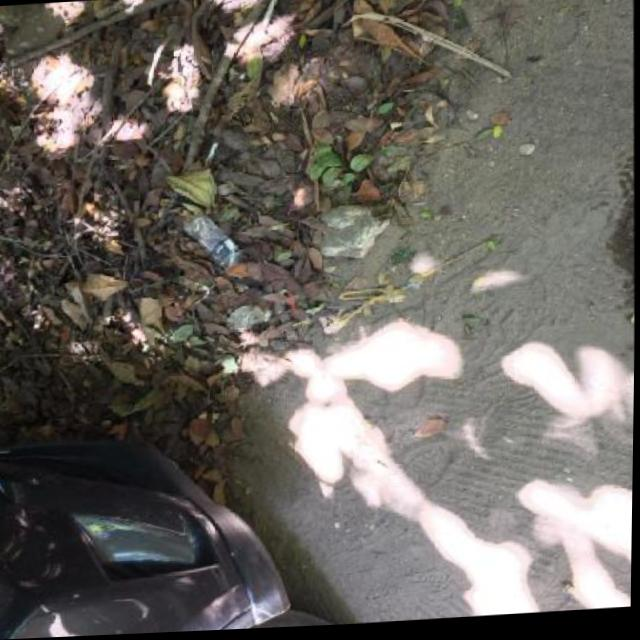plastic: (182, 210, 246, 273)
